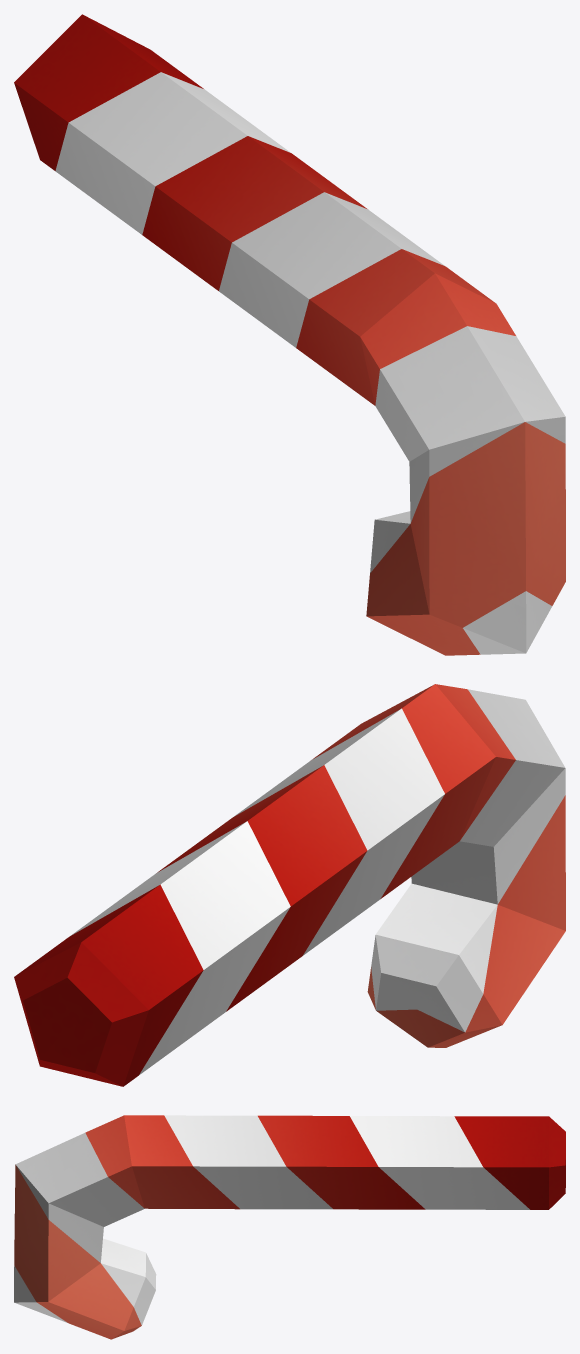
File: candy_cane_2.obj
3 views of the same model, one above another, from view 1: azimuth 30°, elevation 25°; view 2: azimuth 150°, elevation 25°; view 3: azimuth 270°, elevation 25° (orthographic). The views are drawn at different scales.
Visible parts, largest first — view 1: Christmas_Tree_Candy007_Mesh.034; view 2: Christmas_Tree_Candy007_Mesh.034; view 3: Christmas_Tree_Candy007_Mesh.034.
Part boxes in pixels (left/top/right/bottom): Christmas_Tree_Candy007_Mesh.034: left=14, top=14, right=565, bottom=655; Christmas_Tree_Candy007_Mesh.034: left=14, top=684, right=565, bottom=1086; Christmas_Tree_Candy007_Mesh.034: left=14, top=1115, right=565, bottom=1339.
Size of the model in its own units: 0.124 by 0.3203 by 0.7141.
